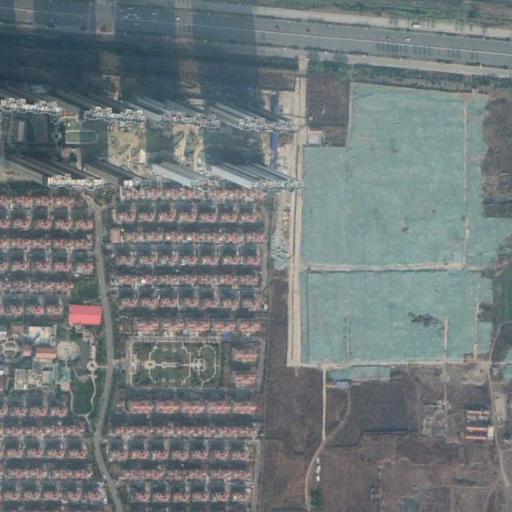cw: (294, 79, 507, 386)
